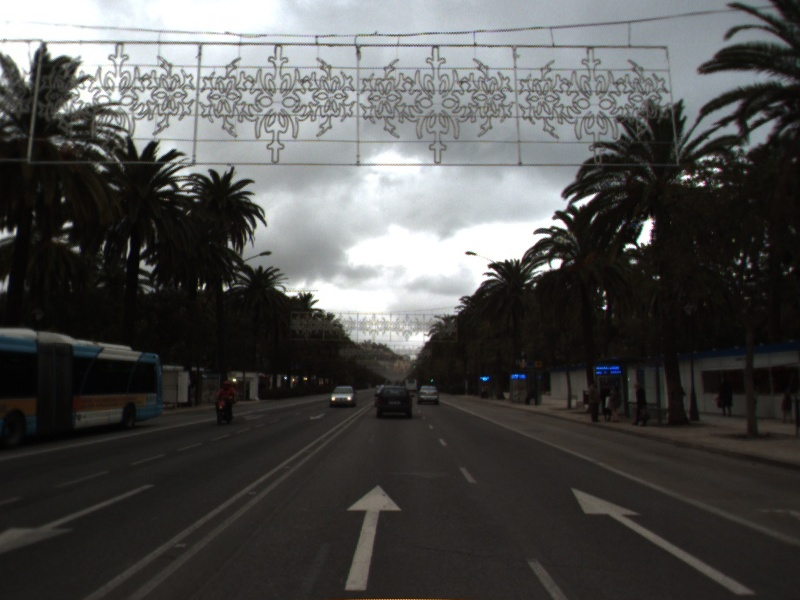STRAIGHT: (568, 484, 759, 597), (339, 480, 405, 594)
